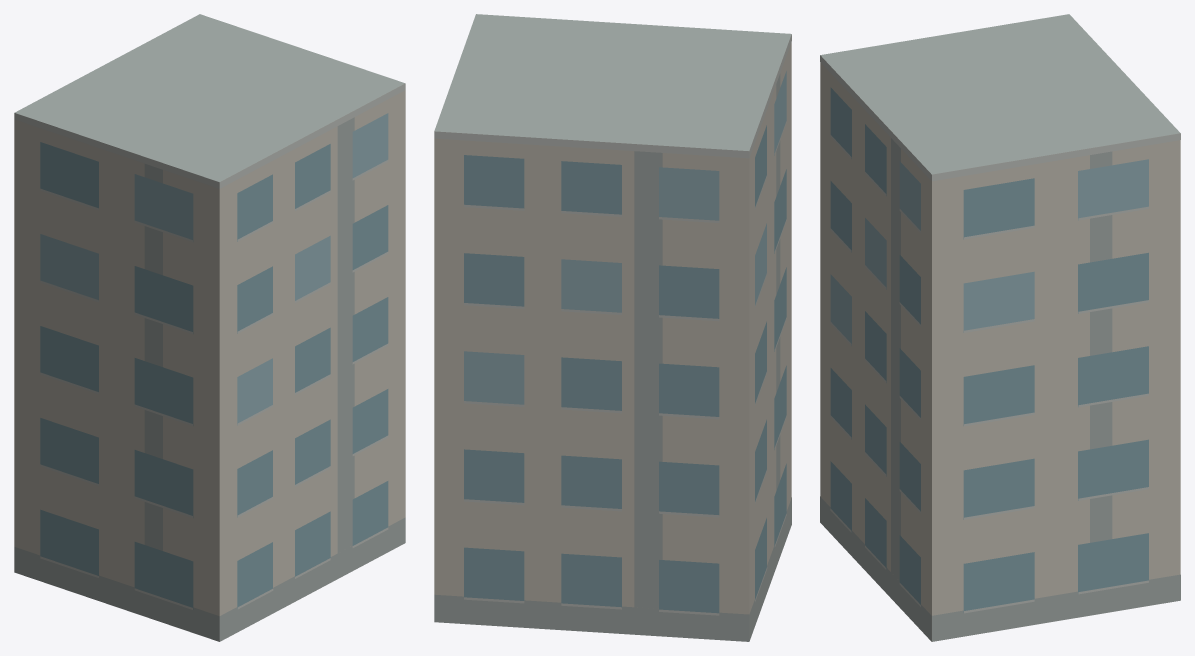
File: survey-upis-32861315.glb
3 renders of one model, left to right at view 1: azimuth 30°, elevation 25°; view 2: azimuth 150°, elevation 25°; view 3: azimuth 270°, elevation 25°, orthographic. The views are drawn at different scales.
Parts seen in each view (by area): view 1: survey-upis-32861315.tmp; view 2: survey-upis-32861315.tmp; view 3: survey-upis-32861315.tmp.
Part boxes in pixels (<box>): survey-upis-32861315.tmp: <box>14,14,405,641</box>; survey-upis-32861315.tmp: <box>434,14,791,641</box>; survey-upis-32861315.tmp: <box>820,14,1180,641</box>.
Size of the model in its own units: 12.28 by 16.65 by 11.65.
